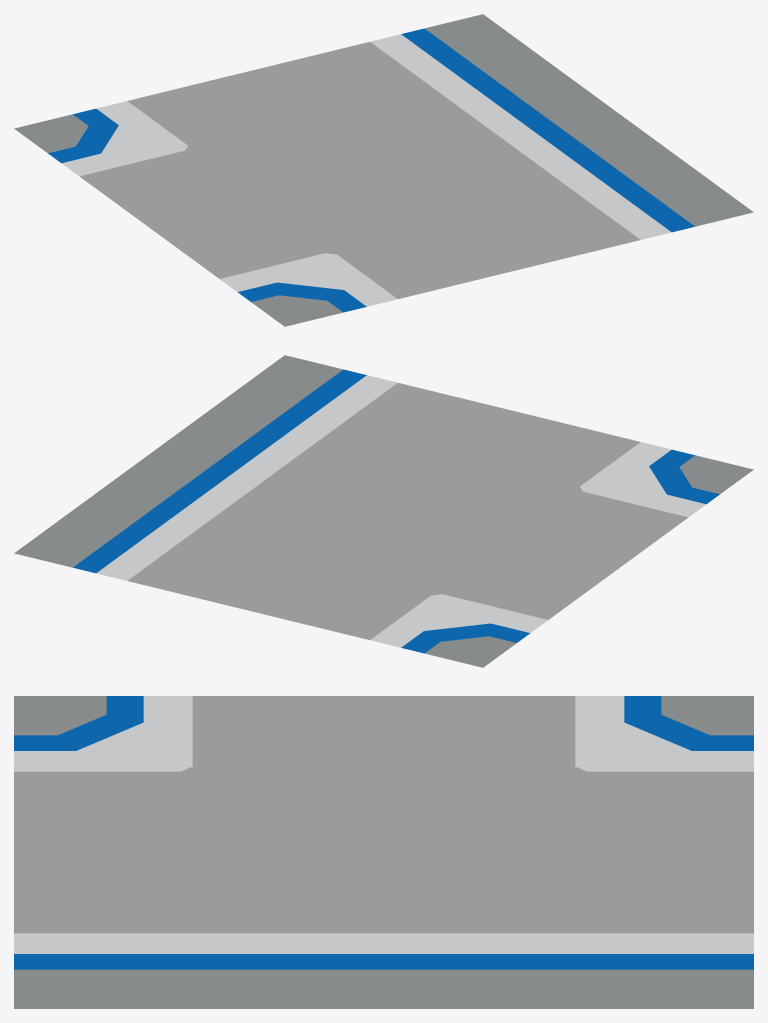
File: Ceiling_type_A_052.004.fbx
3 renders of one model, top to bottom at view 1: azimuth 30°, elevation 25°; view 2: azimuth 150°, elevation 25°; view 3: azimuth 270°, elevation 25°, orthographic. The views are drawn at different scales.
Visible parts, largest first — view 1: Ceiling_type_A_052.004; view 2: Ceiling_type_A_052.004; view 3: Ceiling_type_A_052.004.
Part boxes in pixels (x1,y1,x2,y2): Ceiling_type_A_052.004: (14,14,753,326); Ceiling_type_A_052.004: (14,355,753,667); Ceiling_type_A_052.004: (14,696,753,1008).
Size of the model in its own units: 400 by 400 by 3.5.
